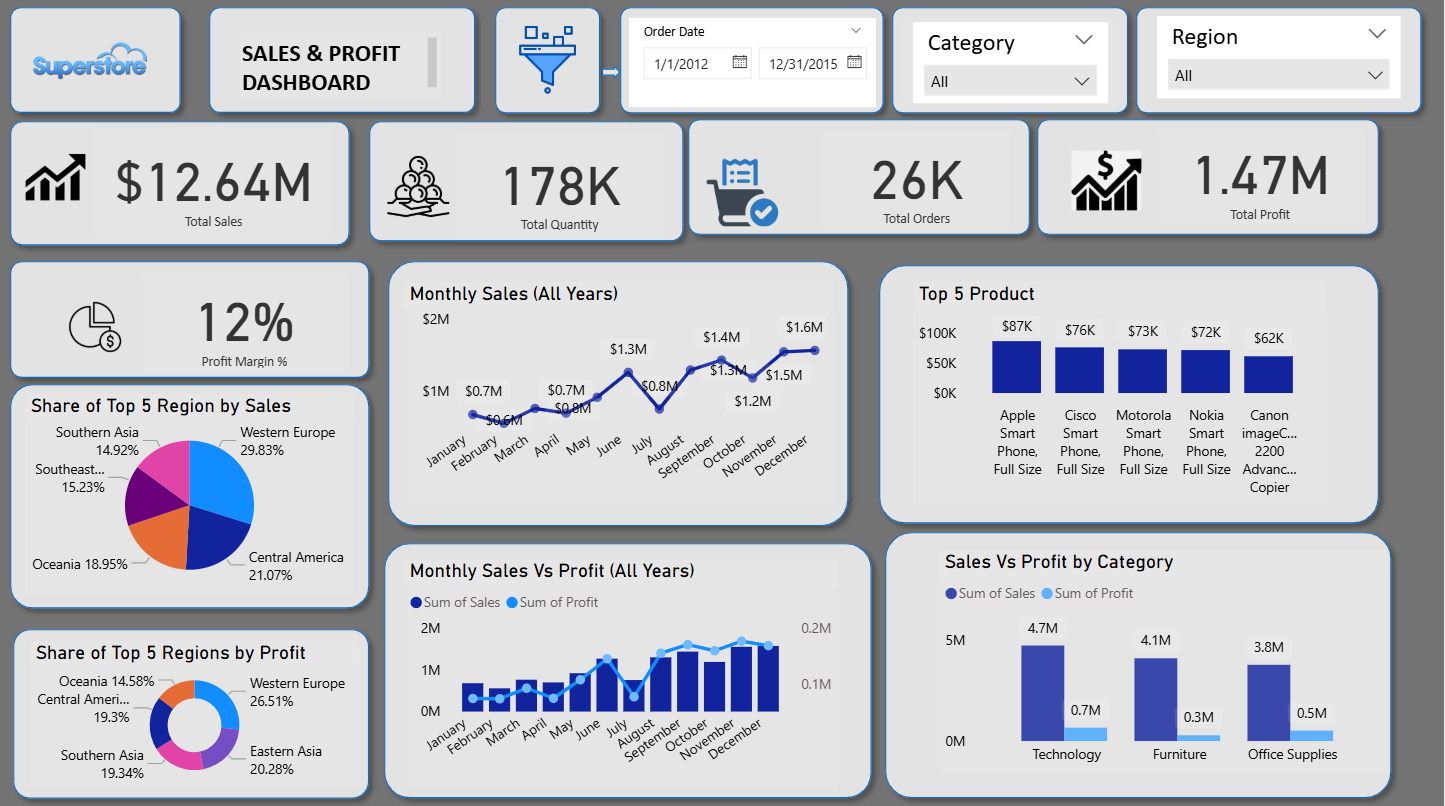

The dashboard page shown, as its layout file describes it:
{"tool":"powerbi","page":{"name":"Sales  Analysis","canvas":[1280,720],"ordinal":0},"visuals":[{"type":"shape","box":[0,100.8,319,128.2],"z":0},{"type":"image","box":[17.6,115.5,62.6,88.1],"z":1000},{"type":"shape","box":[318.1,101.2,296.7,124.5],"z":2000},{"type":"card","fields":{"Values":["Order Table.Total Quantity"]},"box":[404.2,121.3,184,93.9],"z":3000},{"type":"card","fields":{"Values":["Order Table.Total Sales"]},"box":[84.2,115.5,210.4,99.8],"z":4000},{"type":"shape","box":[601.1,99.2,321,120.6],"z":5000},{"type":"card","fields":{"Values":["Order Table.Total Orders"]},"box":[729.5,118.7,166.3,88.5],"z":6000},{"type":"image","box":[336.6,133.1,67.5,70.5],"z":7000},{"type":"image","box":[614.7,138.1,88.5,70],"z":8000},{"type":"shape","box":[335.6,225.7,426,252.9],"z":9000},{"type":"lineChart","title":"Monthly Sales (All Years)","fields":{"Category":["Order Table.Month"],"Y":["Order Table.Total Sales"]},"box":[357.9,252.9,380.3,197.4],"z":10000},{"type":"shape","box":[0,334.6,336.5,216.9],"z":11000},{"type":"shape","box":[0,0,169.2,111.9],"z":12000},{"type":"image","box":[23.3,22.4,112.8,67.1],"z":13000},{"type":"shape","box":[176,0,253.9,111.9],"z":14000},{"type":"textbox","box":[209.6,31.2,183.3,58.5],"z":15000},{"type":"shape","box":[429.9,0,111.1,112.1],"z":16000},{"type":"image","box":[449.4,17.5,72.1,75.1],"z":17000},{"type":"shape","box":[541.1,0,251.5,112.1],"z":18000},{"type":"slicer","fields":{"Values":["Order Table.Order Date.Variation.Date Hierarchy.Year"]},"box":[800.4,17.5,190.1,77],"z":19000},{"type":"shape","box":[781.8,0,227.1,112.1],"z":20000},{"type":"shape","box":[998.3,0,271,112.1],"z":21000},{"type":"slicer","fields":{"Values":["Order Table.Category"]},"box":[809.1,22.4,172.6,72.1],"z":22000},{"type":"slicer","fields":{"Values":["Order Table.Region"]},"box":[1025.6,16.6,216.4,73.1],"z":23000},{"type":"shape","box":[770.3,228.6,461,247.1],"z":24000},{"type":"shape","box":[534.2,60.4,16.6,12.7],"z":25000},{"type":"clusteredColumnChart","title":"Top 5 Product","fields":{"Category":["Order Table.Product Name"],"Y":["Order Table.Total Sales"]},"box":[809.2,252.9,365.7,197.4],"z":26000},{"type":"shape","box":[910.4,99.2,321,120.6],"z":27000},{"type":"card","fields":{"Values":["Order Table.Total Profit"]},"box":[1025.2,116.7,184.8,84.6],"z":28000},{"type":"image","box":[929.8,131.3,102.1,63.2],"z":29000},{"type":"shape","box":[0,225.7,336.5,121.6],"z":30000},{"type":"card","fields":{"Values":["Order Table.Profit Margin %"]},"box":[124.5,245.1,184.8,89.5],"z":31000},{"type":"image","box":[28.2,261.6,112.8,62.2],"z":32000},{"type":"shape","box":[331.7,475.6,450.3,244.1],"z":33000},{"type":"lineClusteredColumnComboChart","title":"Monthly Sales Vs Profit (All Years)","fields":{"Category":["Order Table.Month"],"Y":["Sum(Order Table.Sales)"],"Y2":["Sum(Order Table.Profit)"]},"box":[357.9,498,384.2,203.3],"z":34000},{"type":"shape","box":[776.2,465.9,466.9,253.9],"z":35000},{"type":"clusteredColumnChart","title":"Sales Vs Profit by Category","fields":{"Category":["Order Table.Category"],"Y":["Sum(Order Table.Sales)","Sum(Order Table.Profit)"]},"box":[832.6,490.2,398.8,199.4],"z":36000},{"type":"pieChart","title":"Share of Top 5 Region by Sales","fields":{"Category":["Order Table.Region"],"Y":["Sum(Order Table.Sales)"]},"box":[22.2,352,291.7,178.2],"z":37000},{"type":"shape","box":[2.9,551.5,333.6,168.3],"z":38000},{"type":"donutChart","title":"Share of Top 5 Regions by Profit","fields":{"Category":["Order Table.Region"],"Y":["Sum(Order Table.Profit)"]},"box":[26.3,570.9,291.8,130.3],"z":39000},{"type":"slicer","fields":{"Values":["Order Table.Order Date"]},"box":[557.3,18.5,218.8,78.8],"z":40000}]}

Visuals, with their boxes in screenshot pixels (x1, y1, x2, y2), scaled from the page's 1280x720 canvas onto the 1445x806 screenshot:
shape: (0, 113, 360, 256)
image: (20, 129, 91, 228)
shape: (359, 113, 694, 253)
card - Order Table.Total Quantity: (456, 136, 664, 241)
card - Order Table.Total Sales: (95, 129, 333, 241)
shape: (679, 111, 1041, 246)
card - Order Table.Total Orders: (824, 133, 1011, 232)
image: (380, 149, 456, 228)
image: (694, 155, 794, 233)
shape: (379, 253, 860, 536)
"Monthly Sales (All Years)" lineChart: (404, 283, 833, 504)
shape: (0, 375, 380, 617)
shape: (0, 0, 191, 125)
image: (26, 25, 154, 100)
shape: (199, 0, 485, 125)
textbox: (237, 35, 444, 100)
shape: (485, 0, 611, 125)
image: (507, 20, 589, 104)
shape: (611, 0, 895, 125)
slicer - Order Table.Order Date.Variation.Date Hierarchy.Year: (904, 20, 1118, 106)
shape: (883, 0, 1139, 125)
shape: (1127, 0, 1433, 125)
slicer - Order Table.Category: (913, 25, 1108, 106)
slicer - Order Table.Region: (1158, 19, 1402, 100)
shape: (870, 256, 1390, 533)
shape: (603, 68, 622, 82)
"Top 5 Product" clusteredColumnChart: (914, 283, 1326, 504)
shape: (1028, 111, 1390, 246)
card - Order Table.Total Profit: (1157, 131, 1366, 225)
image: (1050, 147, 1165, 218)
shape: (0, 253, 380, 389)
card - Order Table.Profit Margin %: (141, 274, 349, 375)
image: (32, 293, 159, 362)
shape: (374, 532, 883, 805)
"Monthly Sales Vs Profit (All Years)" lineClusteredColumnComboChart: (404, 557, 838, 785)
shape: (876, 522, 1403, 805)
"Sales Vs Profit by Category" clusteredColumnChart: (940, 549, 1390, 772)
"Share of Top 5 Region by Sales" pieChart: (25, 394, 354, 594)
shape: (3, 617, 380, 805)
"Share of Top 5 Regions by Profit" donutChart: (30, 639, 359, 785)
slicer - Order Table.Order Date: (629, 21, 876, 109)
